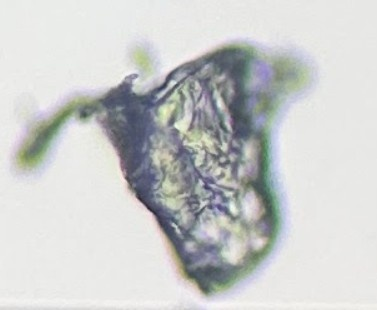microplastic: (13, 41, 314, 293)
